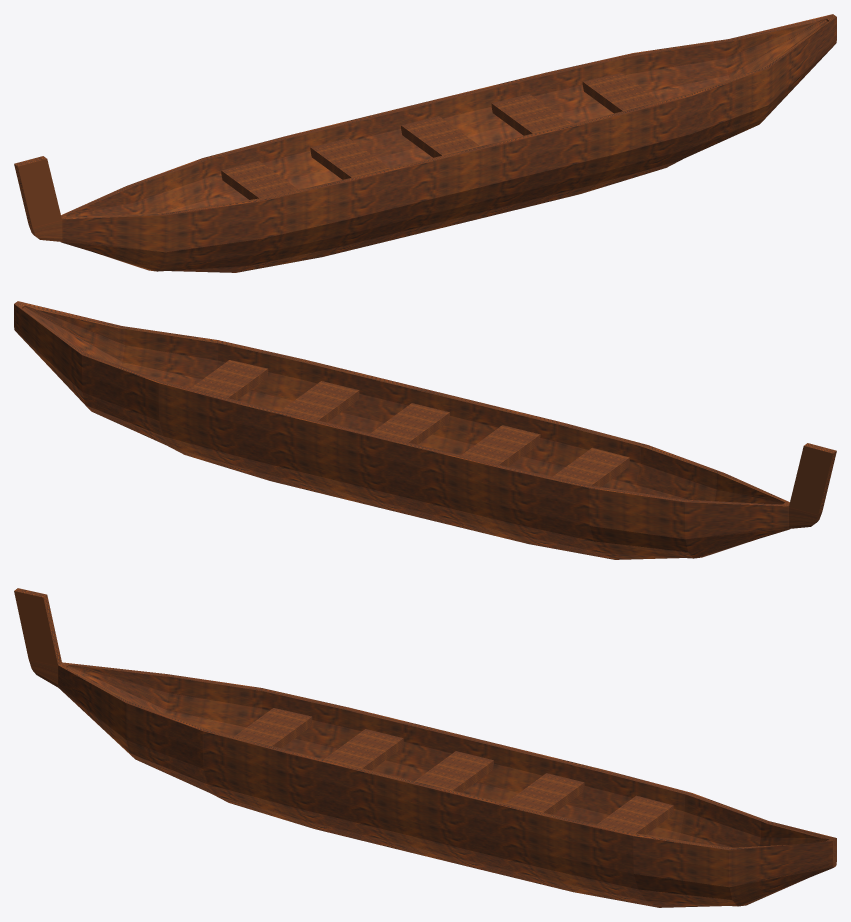
Rendered from Waka.dae.
3 renders of one model, top to bottom at view 1: azimuth 30°, elevation 25°; view 2: azimuth 150°, elevation 25°; view 3: azimuth 330°, elevation 25°, orthographic.
Parts seen in each view (by area): view 1: Cube; view 2: Cube; view 3: Cube.
Boxes of the visible parts, box(x1,y1,x2,y2) form: Cube: box(14, 14, 836, 272); Cube: box(14, 301, 836, 559); Cube: box(14, 588, 836, 907).
Bounding box in the file's own units: 22.62 × 2.99 × 4.32.
